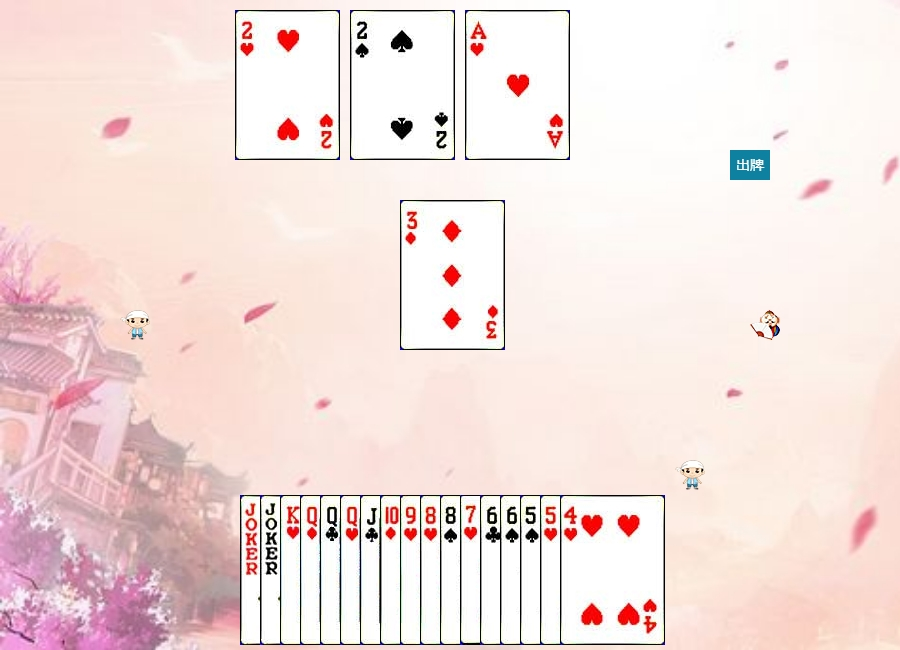10~1: (380, 495, 485, 645)
11~2: (360, 495, 465, 645)
12~1: (300, 495, 405, 645)
12~2: (320, 495, 425, 645)
12~3: (340, 495, 445, 645)
13~3: (280, 495, 385, 645)
14~3: (465, 10, 570, 160)
15~3: (235, 10, 340, 160)
15~4: (350, 10, 455, 160)
17~3: (260, 495, 365, 645)
18~4: (240, 495, 345, 645)
3~1: (400, 200, 505, 350)
4~3: (560, 495, 665, 645)
5~3: (540, 495, 645, 645)
5~4: (520, 495, 625, 645)
6~2: (480, 495, 585, 645)
6~4: (500, 495, 605, 645)
7~3: (460, 495, 565, 645)
8~3: (420, 495, 525, 645)
8~4: (440, 495, 545, 645)
9~3: (400, 495, 505, 645)
